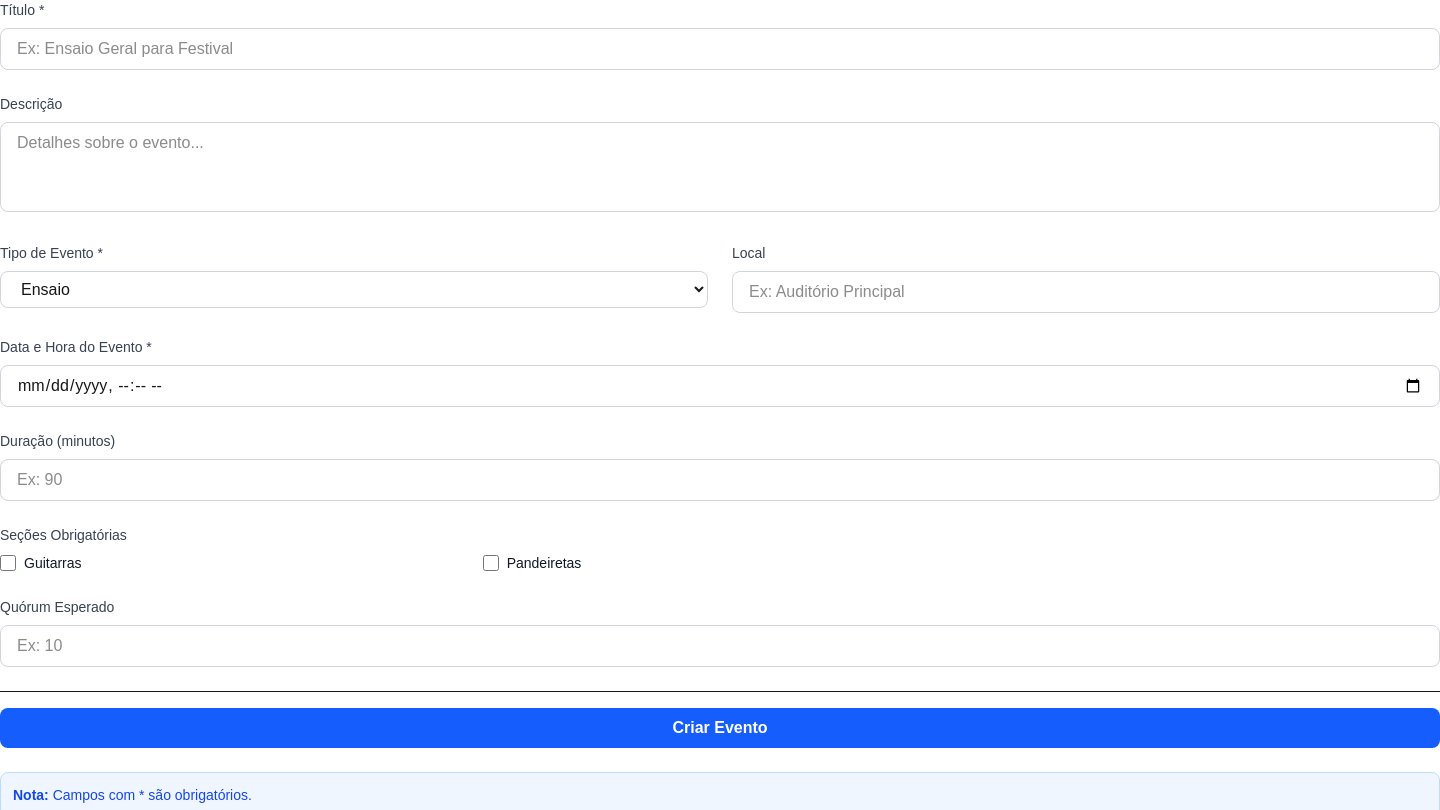
Test case: EventForm Component › shows validation errors for required fields
What coordinates should you click on to do the following:
click the button "Criar Evento"
I would click on:
 (720, 728)
Its box is [0, 708, 1439, 748].
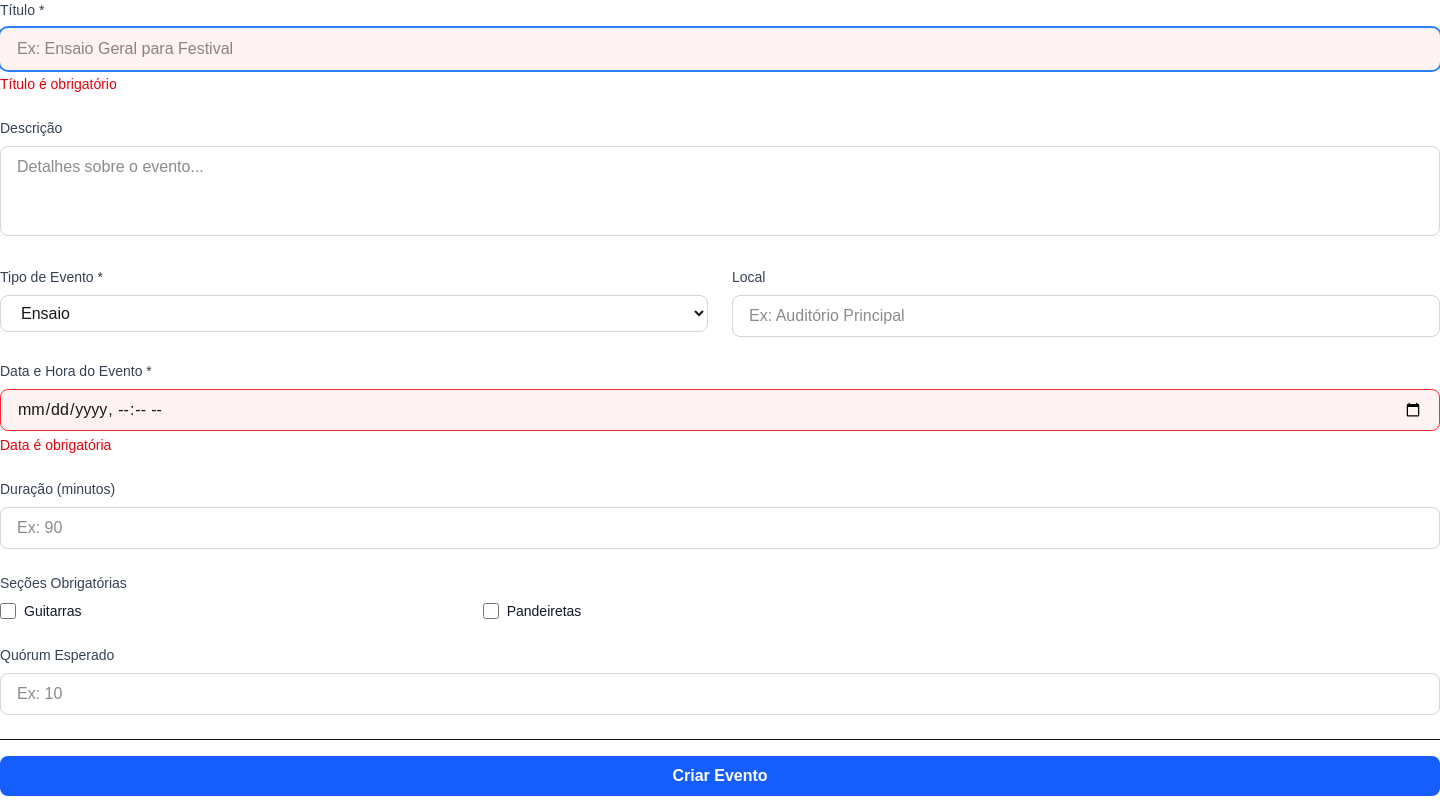
Check: the text "Título é obrigatório" is shown, box [0, 76, 117, 92]
Check: the text "Data é obrigatória" is shown, box [0, 437, 111, 453]
